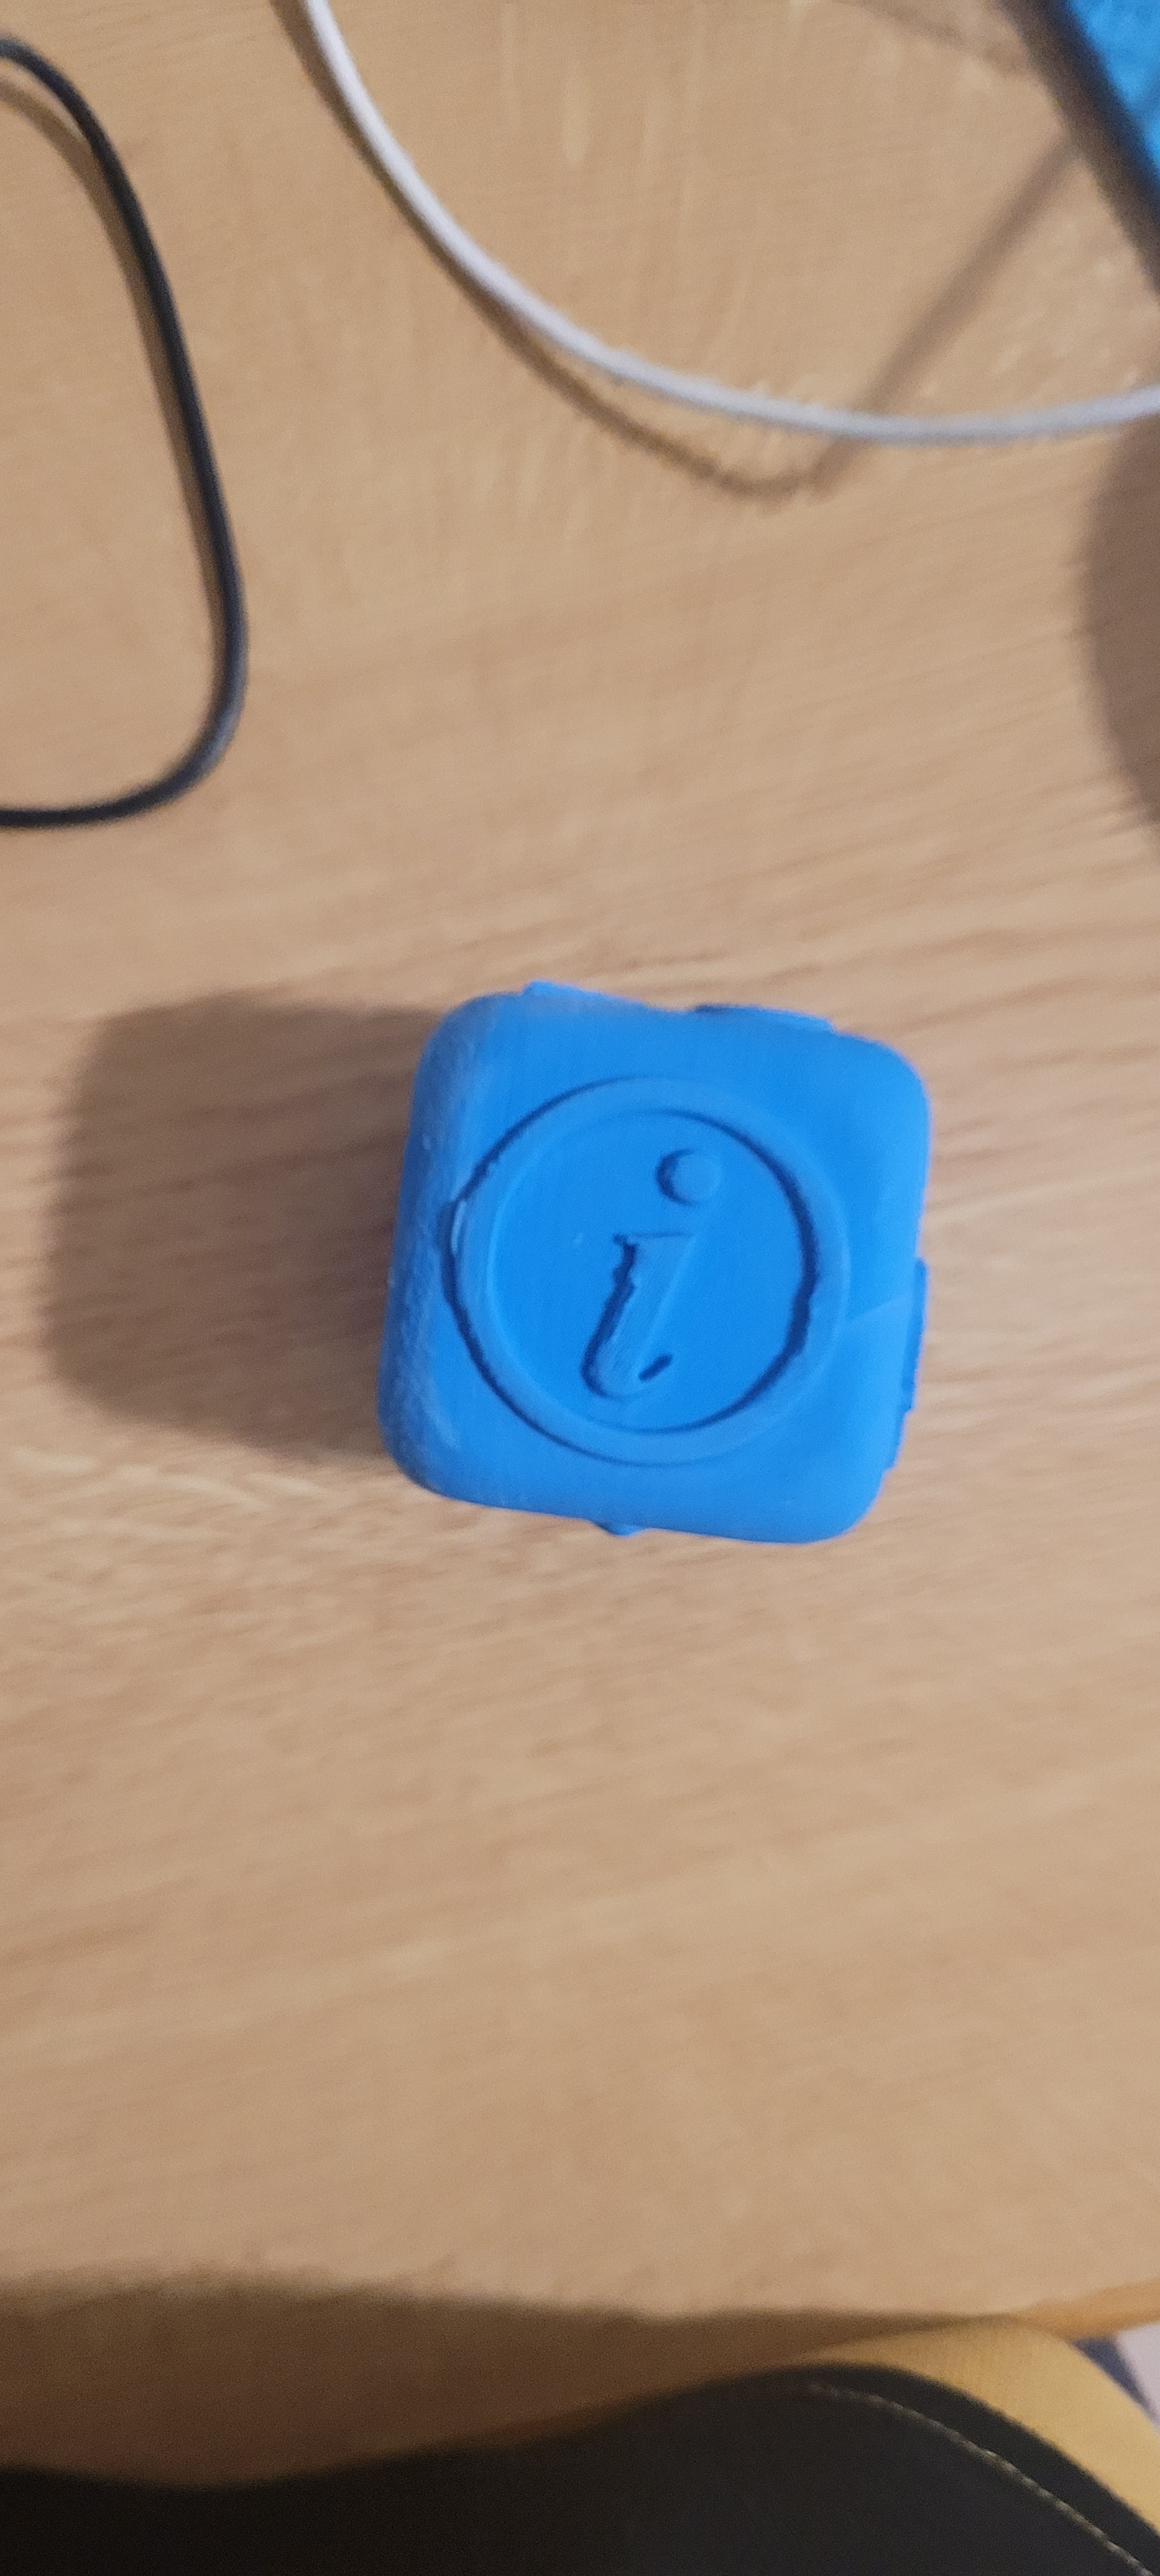Info: (437, 1053, 868, 1562)
